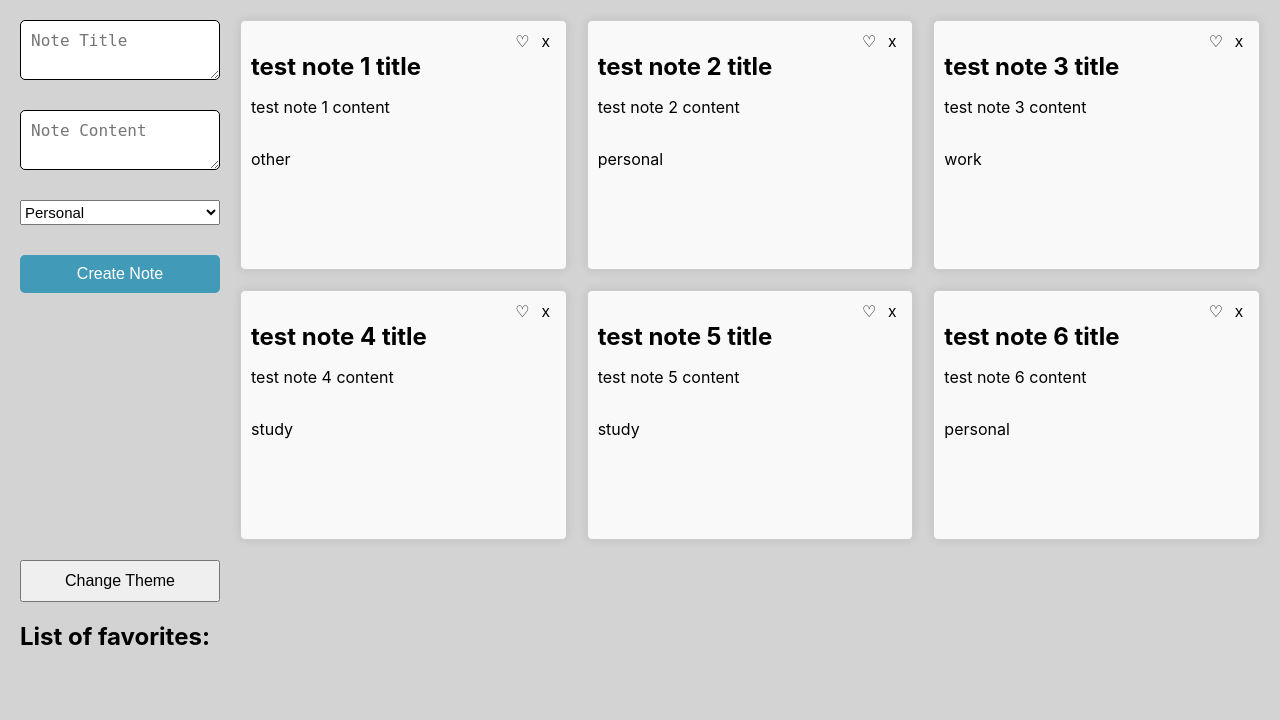
Test: Create StickyNote › Creates a new note
Type "New Note" into the text box with placeholder "Note Title" at {"x": 120, "y": 50}, box [20,20,220,80]
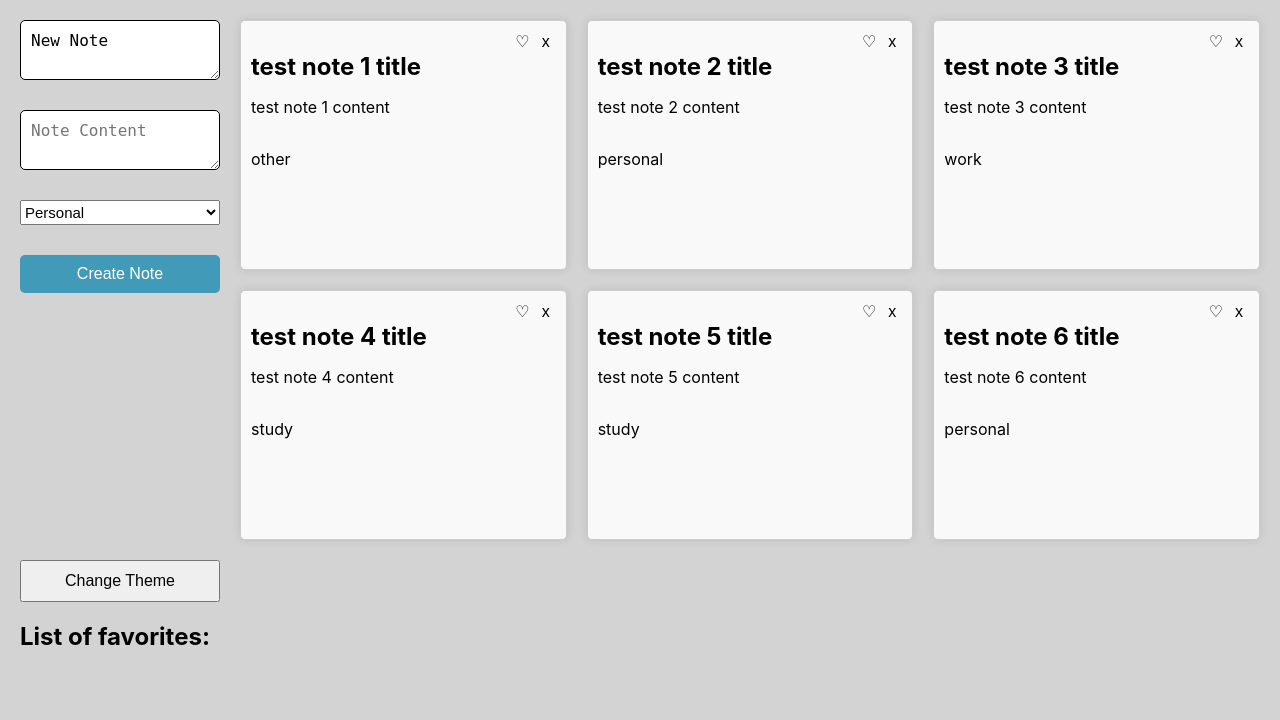
Type "Note content" into the text box with placeholder "Note Content" at {"x": 120, "y": 140}, box [20,110,220,170]
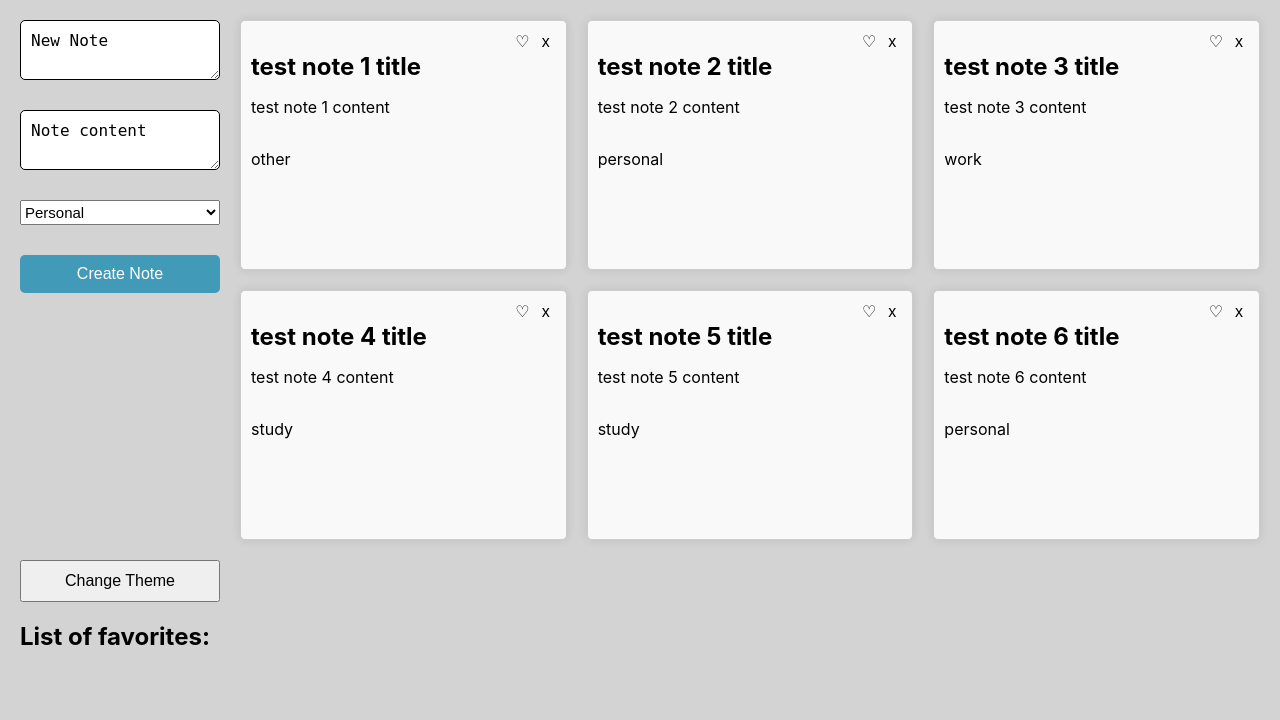
Click the button "Create Note" at {"x": 120, "y": 274}, box [20,255,220,293]
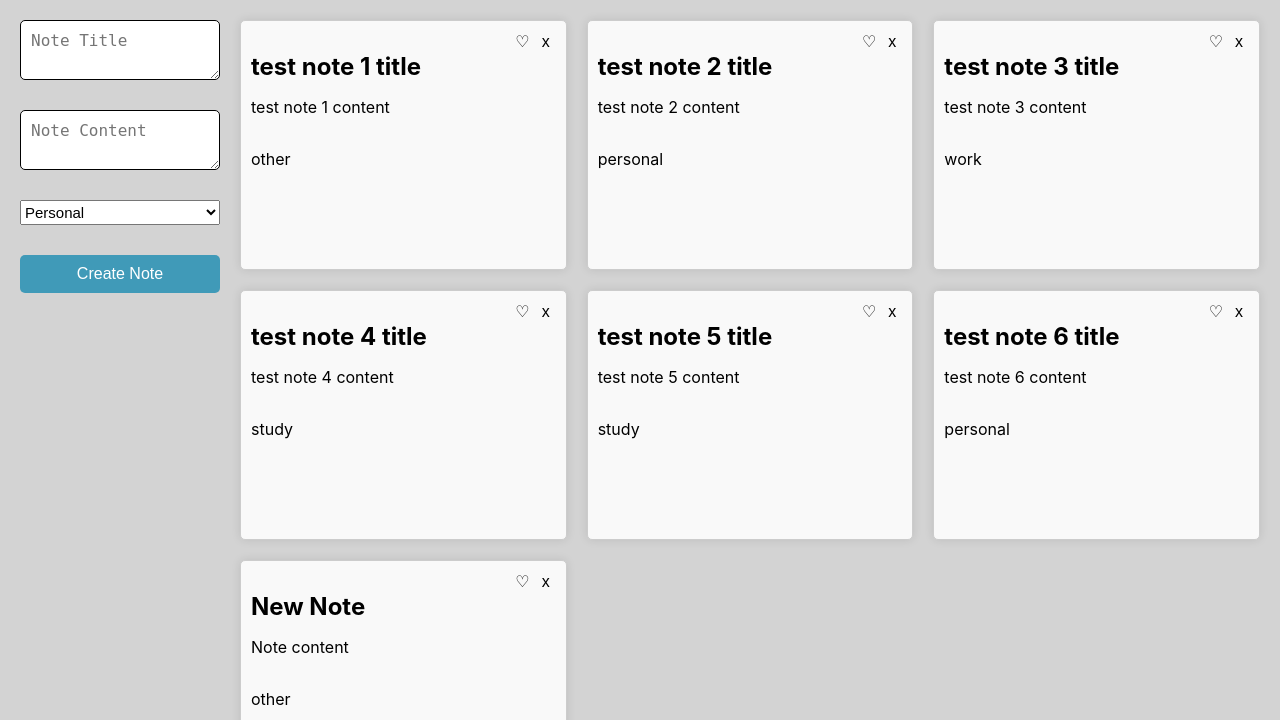
Expected: the heading "New Note" is shown, [251,592,365,621]
Expected: the text box "Note content" is shown, [251,637,349,657]
